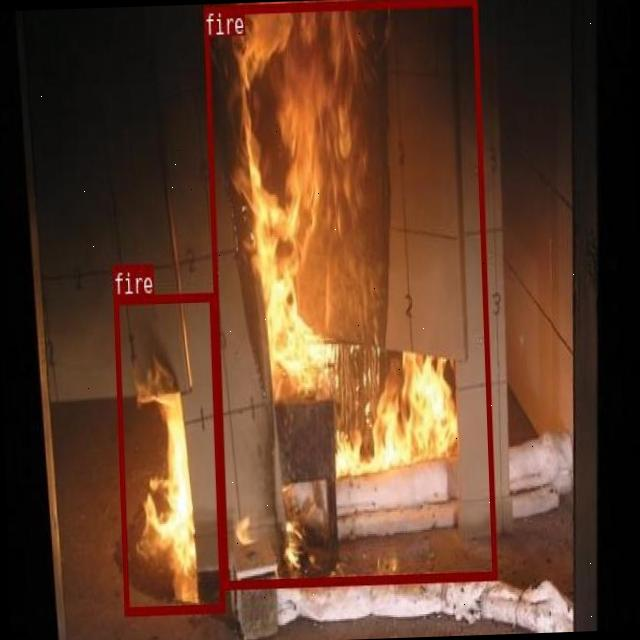fire: (203, 0, 496, 587), (112, 291, 223, 613)
